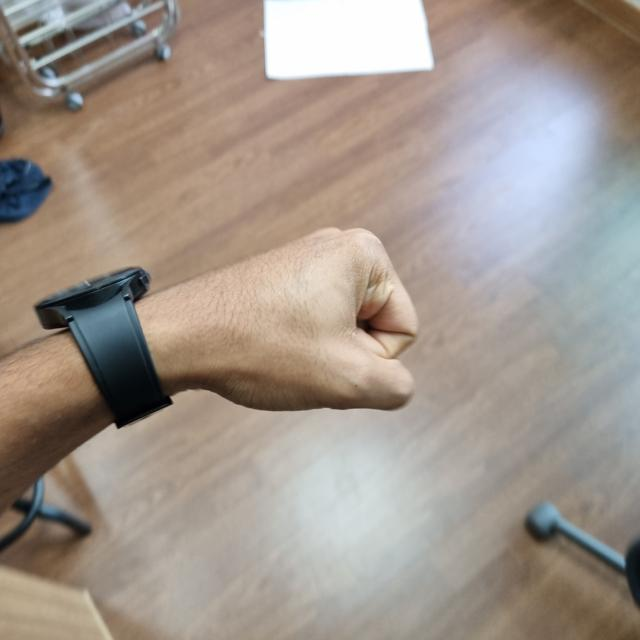Rock: (147, 235, 412, 408)
